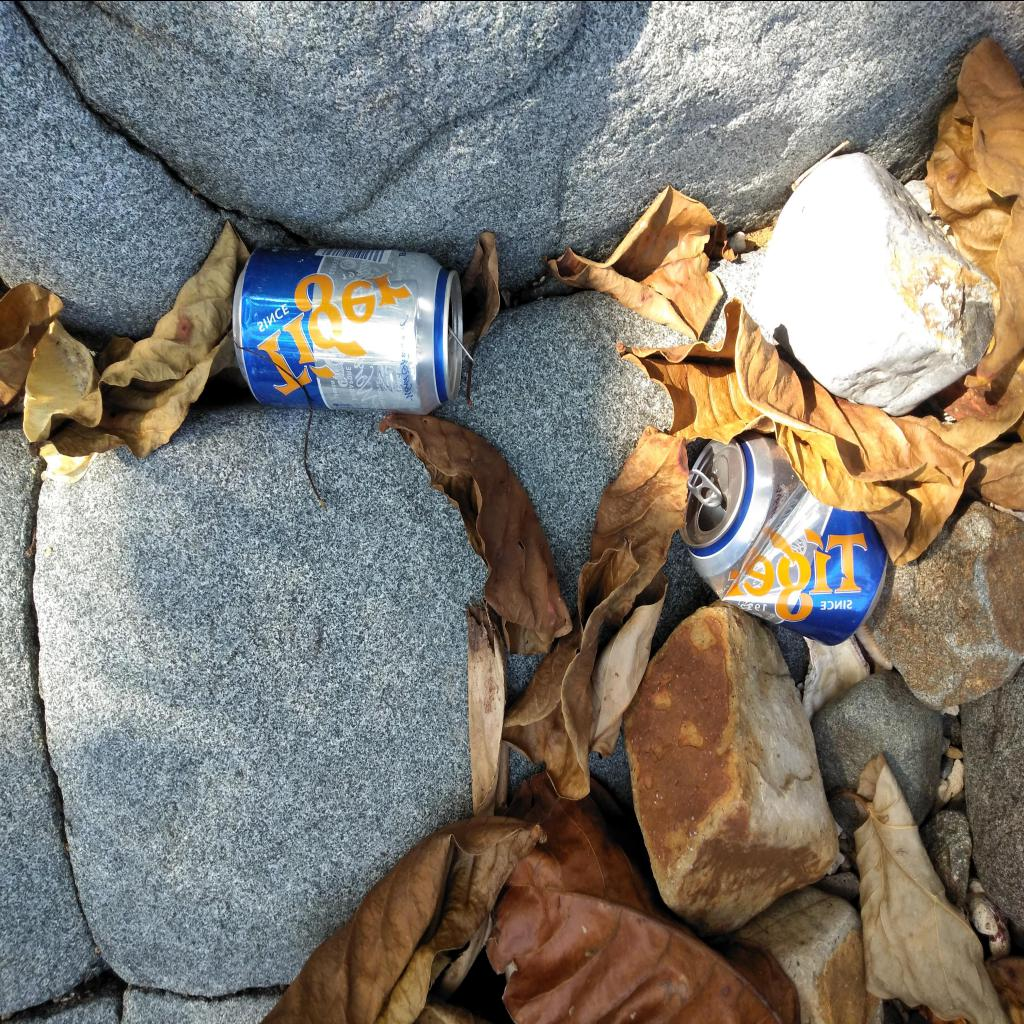Drink can: (678, 430, 888, 644), (232, 244, 462, 414)
Pop tab: (686, 468, 722, 506), (448, 324, 476, 364)
